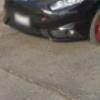cars: (2, 0, 100, 44)
